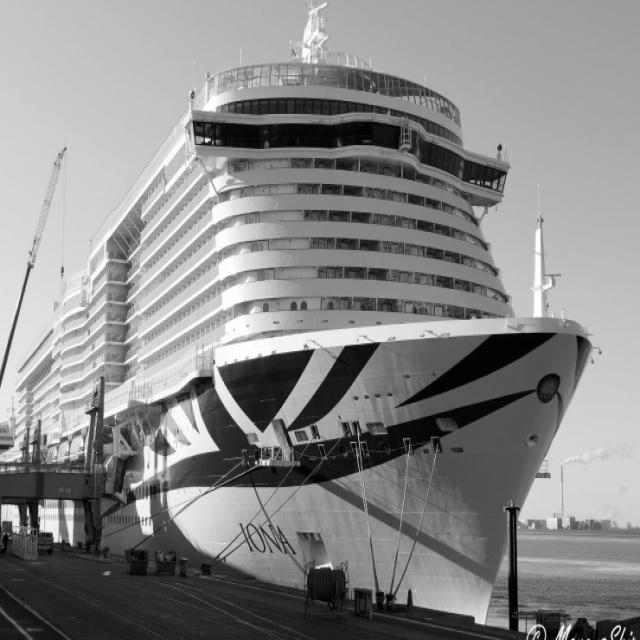cruises: (2, 1, 600, 640)
